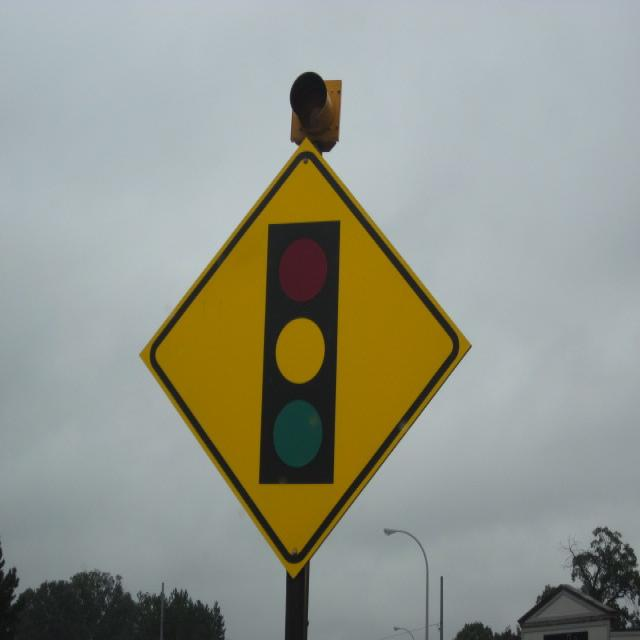warning: (135, 136, 471, 586)
